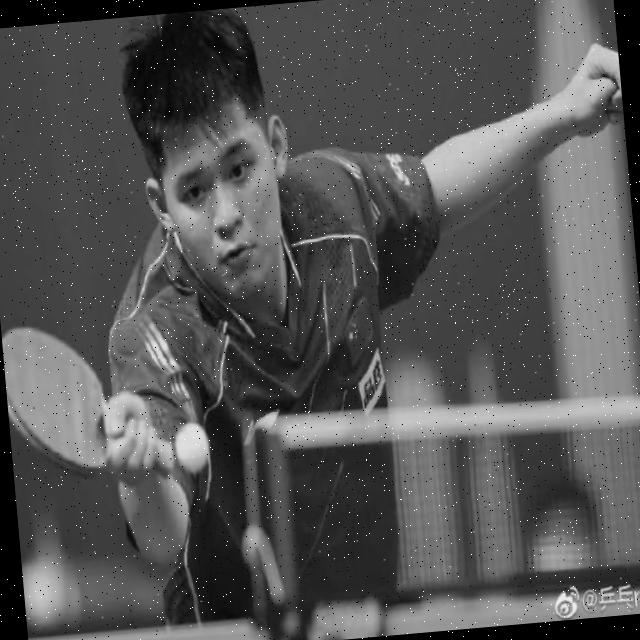ping-pong-ball: (168, 417, 210, 472)
